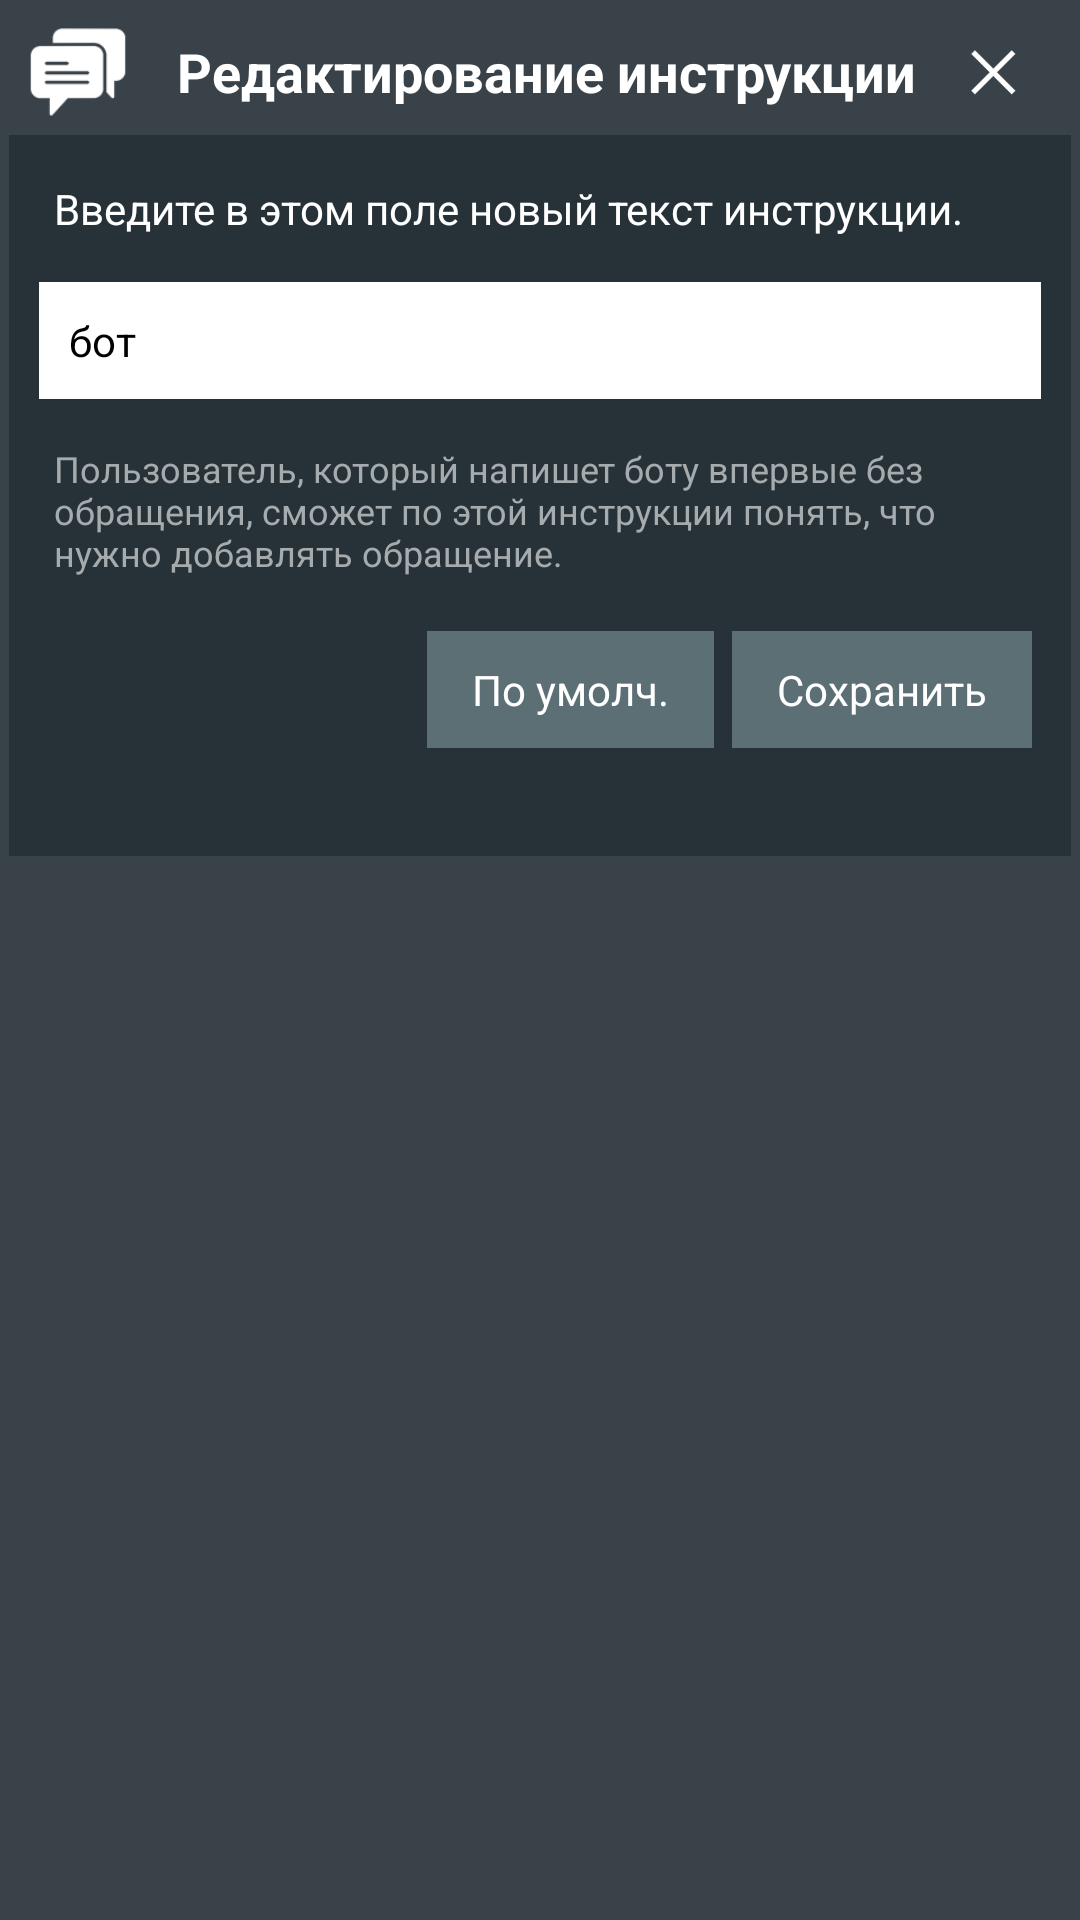

Point at icon controls on the screen. Image size 1080px×1920px, points as (x=x, y=y).
chat: (x=78, y=72)
cross: (x=993, y=72)
